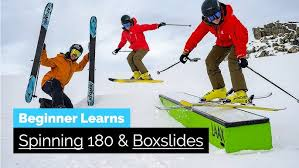skis: (23, 2, 99, 108), (173, 91, 290, 113), (111, 77, 166, 84)
